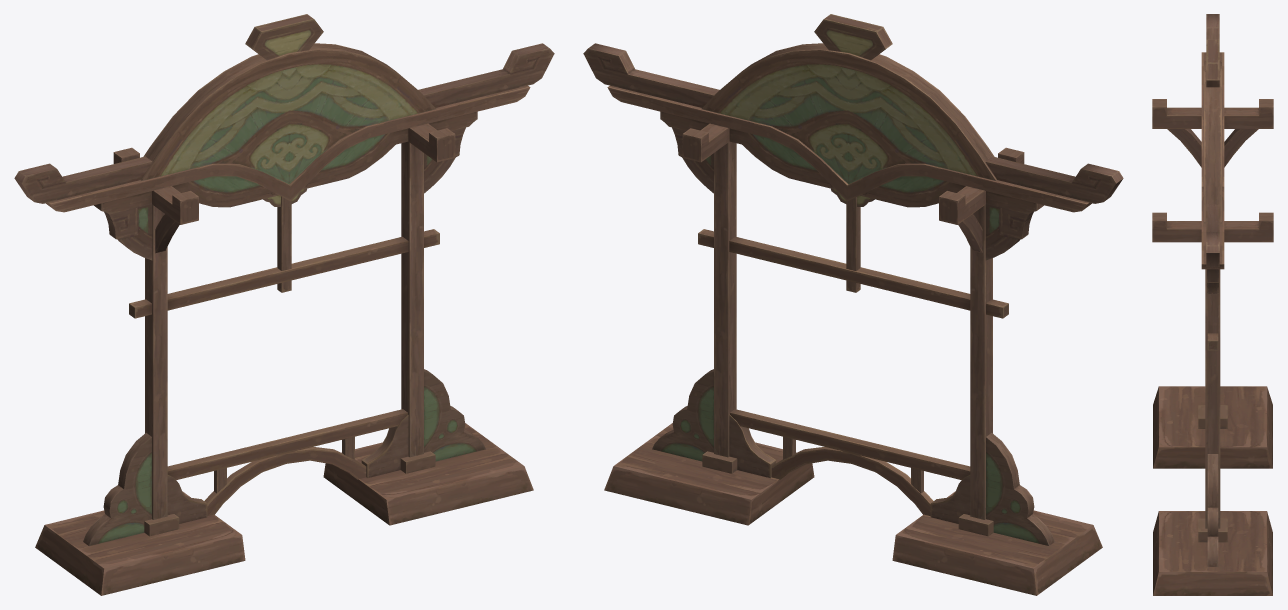
File: Homeworld_Exterior_Ly_Lamp_Build_ScoringShelf_01_Vo.fbx
3 renders of one model, left to right at view 1: azimuth 30°, elevation 25°; view 2: azimuth 150°, elevation 25°; view 3: azimuth 270°, elevation 25°, orthographic. The views are drawn at different scales.
Parts seen in each view (by area): view 1: Homeworld_Exterior_Ly_Lamp_Build_ScoringShelf_01_Vo; view 2: Homeworld_Exterior_Ly_Lamp_Build_ScoringShelf_01_Vo; view 3: Homeworld_Exterior_Ly_Lamp_Build_ScoringShelf_01_Vo.
Part boxes in pixels (bbox=[...]): Homeworld_Exterior_Ly_Lamp_Build_ScoringShelf_01_Vo: bbox=[14, 14, 554, 595]; Homeworld_Exterior_Ly_Lamp_Build_ScoringShelf_01_Vo: bbox=[583, 14, 1123, 595]; Homeworld_Exterior_Ly_Lamp_Build_ScoringShelf_01_Vo: bbox=[1152, 14, 1273, 595].
Size of the model in its own units: 3.6 by 3.2 by 0.7832.
